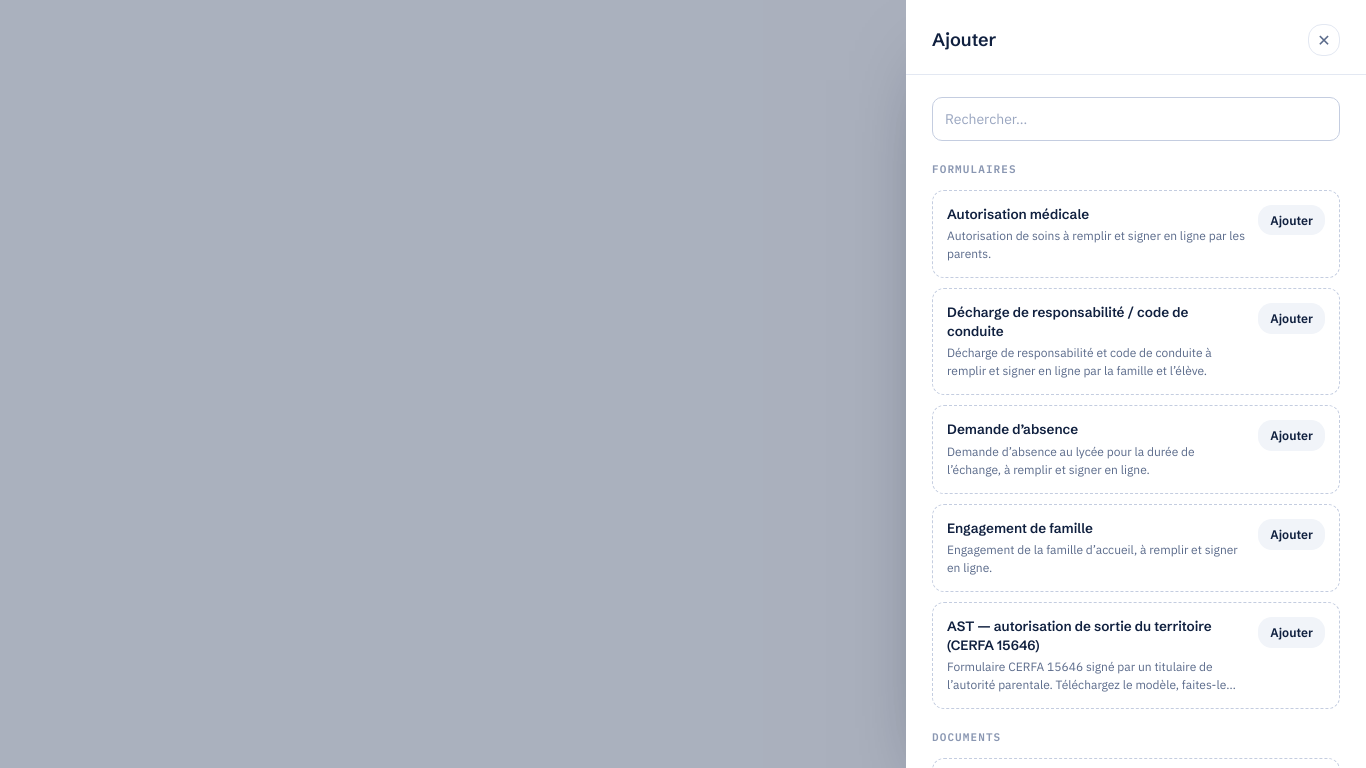
Test: LibraryDrawer › one search filters both subsections and hides an empty subsection
The width and height of the screenshot is (1366, 768).
In the field with placeholder "Rechercher…": coordinates (1136, 119) [932,97,1340,141], type "absence"
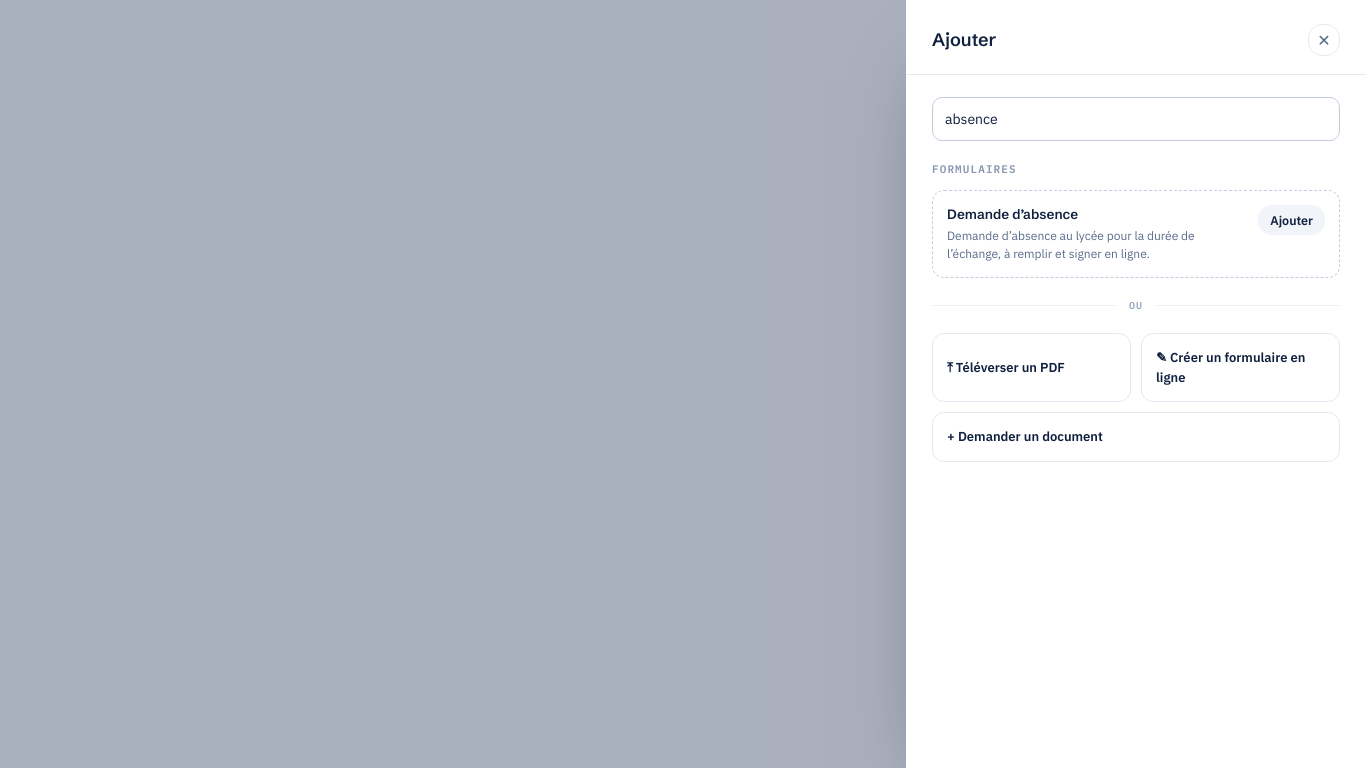
Expected: the text "Demande d’absence" is shown, [947,206,1078,222]
Expected: the text "Autorisation médicale" is gone
Expected: the text "Documents" is gone
